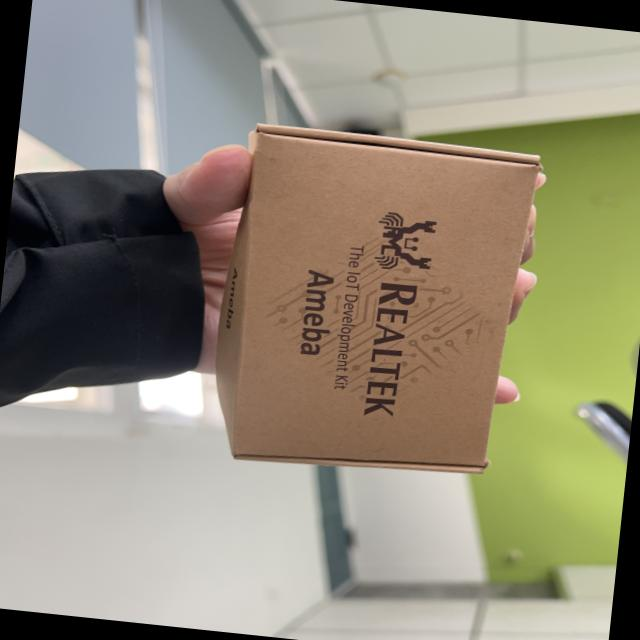box: (204, 110, 537, 508)
